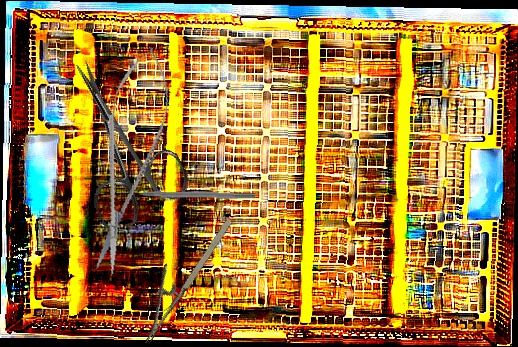Hook Surgical: (123, 188, 256, 200)
Iris Scissors: (35, 42, 197, 237)
Micro Scissor: (75, 40, 181, 281)
Needle Holder: (121, 206, 235, 345)
